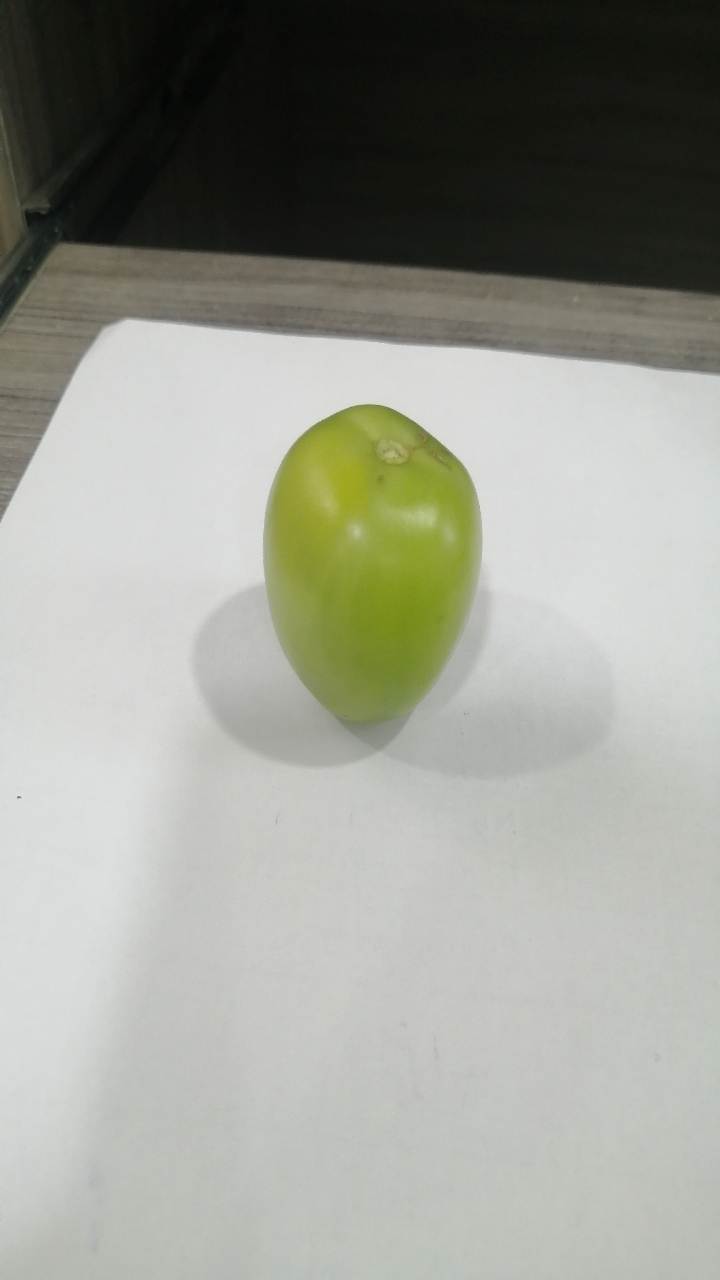tomateVerde: (228, 377, 517, 746)
